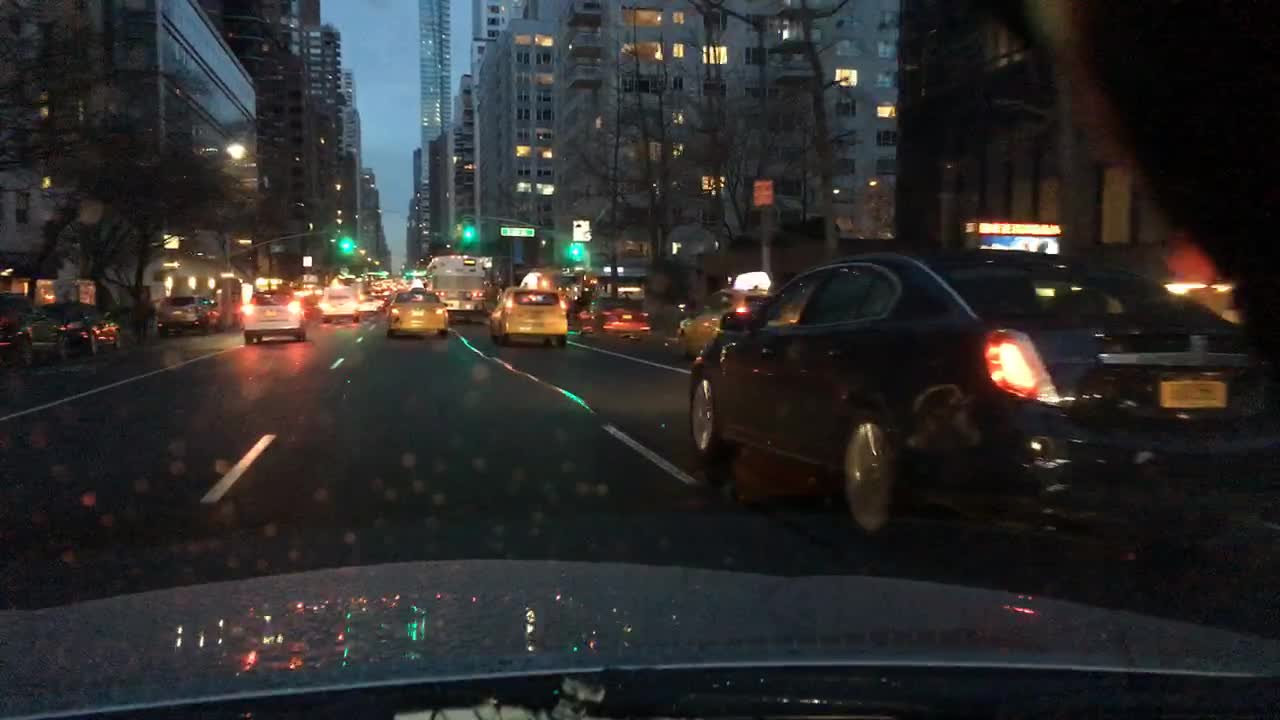car: (685, 247, 1279, 554), (1080, 238, 1240, 329), (675, 269, 768, 363), (487, 271, 569, 348), (0, 291, 67, 371), (48, 297, 120, 354), (239, 288, 305, 343), (377, 288, 449, 338), (576, 293, 650, 341), (152, 294, 222, 337), (521, 268, 587, 304), (319, 285, 359, 329), (359, 293, 384, 318), (299, 285, 318, 310), (368, 282, 391, 297), (399, 282, 423, 293)
traffic light: (569, 238, 580, 257), (464, 216, 473, 239), (340, 235, 348, 252), (406, 268, 409, 280)
traffic sign: (752, 178, 771, 206), (573, 216, 591, 243), (500, 227, 534, 238), (161, 260, 180, 269)
truck: (428, 255, 487, 322)
